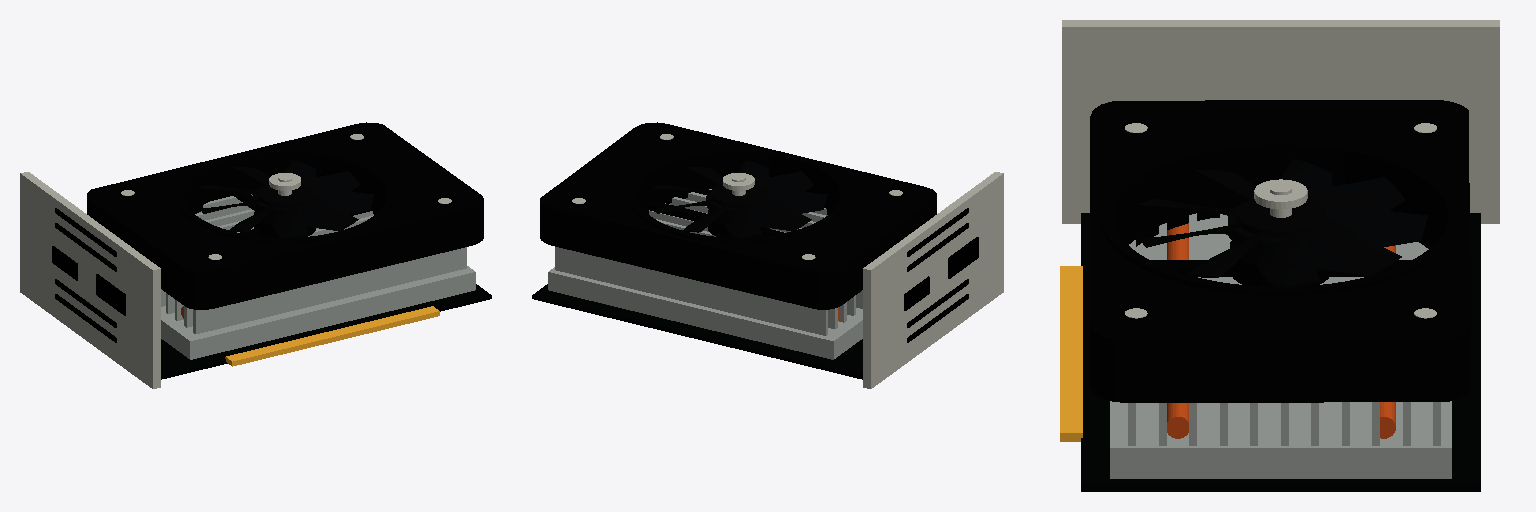
URDF robot description (mini_itx_graphics_card):
<robot name="mini_itx_graphics_card">
  <material name="matte_black_pcb">
    <color rgba="0.015 0.025 0.02 1" />
    </material>
  <material name="dark_solder_mask">
    <color rgba="0.025 0.13 0.075 1" />
    </material>
  <material name="satin_black_shroud">
    <color rgba="0.018 0.018 0.02 1" />
    </material>
  <material name="smoked_fan_plastic">
    <color rgba="0.03 0.032 0.036 1" />
    </material>
  <material name="brushed_aluminum">
    <color rgba="0.62 0.64 0.62 1" />
    </material>
  <material name="io_bracket_steel">
    <color rgba="0.72 0.72 0.68 1" />
    </material>
  <material name="edge_gold">
    <color rgba="0.95 0.68 0.2 1" />
    </material>
  <material name="dark_port_insets">
    <color rgba="0.006 0.007 0.008 1" />
    </material>
  <material name="copper_heatpipes">
    <color rgba="0.78 0.33 0.12 1" />
    </material>
  <link name="card_body">
    <visual name="pcb">
      <origin xyz="0 0 0.001" rpy="0 0 0" />
      <geometry>
        <box size="0.17 0.105 0.002" />
        </geometry>
      <material name="matte_black_pcb">
        <color rgba="0.015 0.025 0.02 1" />
        </material>
      </visual>
    <visual name="pcie_contacts">
      <origin xyz="0.004 -0.055 0.0021" rpy="0 0 0" />
      <geometry>
        <box size="0.104 0.006 0.0024" />
        </geometry>
      <material name="edge_gold">
        <color rgba="0.95 0.68 0.2 1" />
        </material>
      </visual>
    <visual name="io_bracket">
      <origin xyz="-0.0855 0 0.0275" rpy="0 0 0" />
      <geometry>
        <box size="0.004 0.115 0.057" />
        </geometry>
      <material name="io_bracket_steel">
        <color rgba="0.72 0.72 0.68 1" />
        </material>
      </visual>
    <visual name="display_port">
      <origin xyz="-0.0878 -0.022 0.03" rpy="0 0 0" />
      <geometry>
        <box size="0.001 0.025 0.01" />
        </geometry>
      <material name="dark_port_insets">
        <color rgba="0.006 0.007 0.008 1" />
        </material>
      </visual>
    <visual name="hdmi_port">
      <origin xyz="-0.0878 0.018 0.029" rpy="0 0 0" />
      <geometry>
        <box size="0.001 0.021 0.008" />
        </geometry>
      <material name="dark_port_insets">
        <color rgba="0.006 0.007 0.008 1" />
        </material>
      </visual>
    <visual name="bracket_vent_0">
      <origin xyz="-0.0878 0 0.01" rpy="0 0 0" />
      <geometry>
        <box size="0.001 0.053 0.0022" />
        </geometry>
      <material name="dark_port_insets">
        <color rgba="0.006 0.007 0.008 1" />
        </material>
      </visual>
    <visual name="bracket_vent_1">
      <origin xyz="-0.0878 0 0.017" rpy="0 0 0" />
      <geometry>
        <box size="0.001 0.053 0.0022" />
        </geometry>
      <material name="dark_port_insets">
        <color rgba="0.006 0.007 0.008 1" />
        </material>
      </visual>
    <visual name="bracket_vent_2">
      <origin xyz="-0.0878 0 0.044" rpy="0 0 0" />
      <geometry>
        <box size="0.001 0.053 0.0022" />
        </geometry>
      <material name="dark_port_insets">
        <color rgba="0.006 0.007 0.008 1" />
        </material>
      </visual>
    <visual name="bracket_vent_3">
      <origin xyz="-0.0878 0 0.051" rpy="0 0 0" />
      <geometry>
        <box size="0.001 0.053 0.0022" />
        </geometry>
      <material name="dark_port_insets">
        <color rgba="0.006 0.007 0.008 1" />
        </material>
      </visual>
    <visual name="heatsink_base">
      <origin xyz="0.01 0 0.0064" rpy="0 0 0" />
      <geometry>
        <box size="0.143 0.09 0.009" />
        </geometry>
      <material name="brushed_aluminum">
        <color rgba="0.62 0.64 0.62 1" />
        </material>
      </visual>
    <visual name="fin_0">
      <origin xyz="0.012 -0.039 0.0198" rpy="0 0 0" />
      <geometry>
        <box size="0.136 0.0021 0.018" />
        </geometry>
      <material name="brushed_aluminum">
        <color rgba="0.62 0.64 0.62 1" />
        </material>
      </visual>
    <visual name="fin_1">
      <origin xyz="0.012 -0.031 0.0198" rpy="0 0 0" />
      <geometry>
        <box size="0.136 0.0021 0.018" />
        </geometry>
      <material name="brushed_aluminum">
        <color rgba="0.62 0.64 0.62 1" />
        </material>
      </visual>
    <visual name="fin_2">
      <origin xyz="0.012 -0.023 0.0198" rpy="0 0 0" />
      <geometry>
        <box size="0.136 0.0021 0.018" />
        </geometry>
      <material name="brushed_aluminum">
        <color rgba="0.62 0.64 0.62 1" />
        </material>
      </visual>
    <visual name="fin_3">
      <origin xyz="0.012 -0.015 0.0198" rpy="0 0 0" />
      <geometry>
        <box size="0.136 0.0021 0.018" />
        </geometry>
      <material name="brushed_aluminum">
        <color rgba="0.62 0.64 0.62 1" />
        </material>
      </visual>
    <visual name="fin_4">
      <origin xyz="0.012 -0.007 0.0198" rpy="0 0 0" />
      <geometry>
        <box size="0.136 0.0021 0.018" />
        </geometry>
      <material name="brushed_aluminum">
        <color rgba="0.62 0.64 0.62 1" />
        </material>
      </visual>
    <visual name="fin_5">
      <origin xyz="0.012 0.001 0.0198" rpy="0 0 0" />
      <geometry>
        <box size="0.136 0.0021 0.018" />
        </geometry>
      <material name="brushed_aluminum">
        <color rgba="0.62 0.64 0.62 1" />
        </material>
      </visual>
    <visual name="fin_6">
      <origin xyz="0.012 0.009 0.0198" rpy="0 0 0" />
      <geometry>
        <box size="0.136 0.0021 0.018" />
        </geometry>
      <material name="brushed_aluminum">
        <color rgba="0.62 0.64 0.62 1" />
        </material>
      </visual>
    <visual name="fin_7">
      <origin xyz="0.012 0.017 0.0198" rpy="0 0 0" />
      <geometry>
        <box size="0.136 0.0021 0.018" />
        </geometry>
      <material name="brushed_aluminum">
        <color rgba="0.62 0.64 0.62 1" />
        </material>
      </visual>
    <visual name="fin_8">
      <origin xyz="0.012 0.025 0.0198" rpy="0 0 0" />
      <geometry>
        <box size="0.136 0.0021 0.018" />
        </geometry>
      <material name="brushed_aluminum">
        <color rgba="0.62 0.64 0.62 1" />
        </material>
      </visual>
    <visual name="fin_9">
      <origin xyz="0.012 0.033 0.0198" rpy="0 0 0" />
      <geometry>
        <box size="0.136 0.0021 0.018" />
        </geometry>
      <material name="brushed_aluminum">
        <color rgba="0.62 0.64 0.62 1" />
        </material>
      </visual>
    <visual name="fin_10">
      <origin xyz="0.012 0.041 0.0198" rpy="0 0 0" />
      <geometry>
        <box size="0.136 0.0021 0.018" />
        </geometry>
      <material name="brushed_aluminum">
        <color rgba="0.62 0.64 0.62 1" />
        </material>
      </visual>
    <visual name="heatpipe_0">
      <origin xyz="0.012 -0.027 0.0152" rpy="0 1.5708 0" />
      <geometry>
        <cylinder radius="0.0032" length="0.132" />
        </geometry>
      <material name="copper_heatpipes">
        <color rgba="0.78 0.33 0.12 1" />
        </material>
      </visual>
    <visual name="heatpipe_1">
      <origin xyz="0.012 0.027 0.0152" rpy="0 1.5708 0" />
      <geometry>
        <cylinder radius="0.0032" length="0.132" />
        </geometry>
      <material name="copper_heatpipes">
        <color rgba="0.78 0.33 0.12 1" />
        </material>
      </visual>
    <visual name="fan_shroud">
      <origin xyz="0.012 0 0.0355" rpy="0 0 0" />
      <geometry>
        <mesh filename="assets/meshes/short_fan_shroud.obj" />
        </geometry>
      <material name="satin_black_shroud">
        <color rgba="0.018 0.018 0.02 1" />
        </material>
      </visual>
    <visual name="stator_spoke_x">
      <origin xyz="0.012 0 0.0305" rpy="0 0 0" />
      <geometry>
        <box size="0.09 0.004 0.003" />
        </geometry>
      <material name="satin_black_shroud">
        <color rgba="0.018 0.018 0.02 1" />
        </material>
      </visual>
    <visual name="stator_spoke_y">
      <origin xyz="0.012 0 0.0305" rpy="0 0 0" />
      <geometry>
        <box size="0.004 0.09 0.003" />
        </geometry>
      <material name="satin_black_shroud">
        <color rgba="0.018 0.018 0.02 1" />
        </material>
      </visual>
    <visual name="stator_hub">
      <origin xyz="0.012 0 0.0335" rpy="0 0 0" />
      <geometry>
        <cylinder radius="0.0135" length="0.007" />
        </geometry>
      <material name="satin_black_shroud">
        <color rgba="0.018 0.018 0.02 1" />
        </material>
      </visual>
    <visual name="bearing_pin">
      <origin xyz="0.012 0 0.0415" rpy="0 0 0" />
      <geometry>
        <cylinder radius="0.003" length="0.025" />
        </geometry>
      <material name="io_bracket_steel">
        <color rgba="0.72 0.72 0.68 1" />
        </material>
      </visual>
    <visual name="retainer_clip">
      <origin xyz="0.012 0 0.052" rpy="0 0 0" />
      <geometry>
        <cylinder radius="0.007" length="0.0022" />
        </geometry>
      <material name="io_bracket_steel">
        <color rgba="0.72 0.72 0.68 1" />
        </material>
      </visual>
    <visual name="shroud_screw_0">
      <origin xyz="-0.045 -0.038 0.0435" rpy="0 0 0" />
      <geometry>
        <cylinder radius="0.003" length="0.0024" />
        </geometry>
      <material name="io_bracket_steel">
        <color rgba="0.72 0.72 0.68 1" />
        </material>
      </visual>
    <visual name="shroud_screw_1">
      <origin xyz="-0.045 0.038 0.0435" rpy="0 0 0" />
      <geometry>
        <cylinder radius="0.003" length="0.0024" />
        </geometry>
      <material name="io_bracket_steel">
        <color rgba="0.72 0.72 0.68 1" />
        </material>
      </visual>
    <visual name="shroud_screw_2">
      <origin xyz="0.07 -0.038 0.0435" rpy="0 0 0" />
      <geometry>
        <cylinder radius="0.003" length="0.0024" />
        </geometry>
      <material name="io_bracket_steel">
        <color rgba="0.72 0.72 0.68 1" />
        </material>
      </visual>
    <visual name="shroud_screw_3">
      <origin xyz="0.07 0.038 0.0435" rpy="0 0 0" />
      <geometry>
        <cylinder radius="0.003" length="0.0024" />
        </geometry>
      <material name="io_bracket_steel">
        <color rgba="0.72 0.72 0.68 1" />
        </material>
      </visual>
    <collision name="pcb">
      <origin xyz="0 0 0.001" rpy="0 0 0" />
      <geometry>
        <box size="0.17 0.105 0.002" />
        </geometry>
      </collision>
    <collision name="pcie_contacts">
      <origin xyz="0.004 -0.055 0.0021" rpy="0 0 0" />
      <geometry>
        <box size="0.104 0.006 0.0024" />
        </geometry>
      </collision>
    <collision name="io_bracket">
      <origin xyz="-0.0855 0 0.0275" rpy="0 0 0" />
      <geometry>
        <box size="0.004 0.115 0.057" />
        </geometry>
      </collision>
    <collision name="display_port">
      <origin xyz="-0.0878 -0.022 0.03" rpy="0 0 0" />
      <geometry>
        <box size="0.001 0.025 0.01" />
        </geometry>
      </collision>
    <collision name="hdmi_port">
      <origin xyz="-0.0878 0.018 0.029" rpy="0 0 0" />
      <geometry>
        <box size="0.001 0.021 0.008" />
        </geometry>
      </collision>
    <collision name="bracket_vent_0">
      <origin xyz="-0.0878 0 0.01" rpy="0 0 0" />
      <geometry>
        <box size="0.001 0.053 0.0022" />
        </geometry>
      </collision>
    <collision name="bracket_vent_1">
      <origin xyz="-0.0878 0 0.017" rpy="0 0 0" />
      <geometry>
        <box size="0.001 0.053 0.0022" />
        </geometry>
      </collision>
    <collision name="bracket_vent_2">
      <origin xyz="-0.0878 0 0.044" rpy="0 0 0" />
      <geometry>
        <box size="0.001 0.053 0.0022" />
        </geometry>
      </collision>
    <collision name="bracket_vent_3">
      <origin xyz="-0.0878 0 0.051" rpy="0 0 0" />
      <geometry>
        <box size="0.001 0.053 0.0022" />
        </geometry>
      </collision>
    <collision name="heatsink_base">
      <origin xyz="0.01 0 0.0064" rpy="0 0 0" />
      <geometry>
        <box size="0.143 0.09 0.009" />
        </geometry>
      </collision>
    <collision name="fin_0">
      <origin xyz="0.012 -0.039 0.0198" rpy="0 0 0" />
      <geometry>
        <box size="0.136 0.0021 0.018" />
        </geometry>
      </collision>
    <collision name="fin_1">
      <origin xyz="0.012 -0.031 0.0198" rpy="0 0 0" />
      <geometry>
        <box size="0.136 0.0021 0.018" />
        </geometry>
      </collision>
    <collision name="fin_2">
      <origin xyz="0.012 -0.023 0.0198" rpy="0 0 0" />
      <geometry>
        <box size="0.136 0.0021 0.018" />
        </geometry>
      </collision>
    <collision name="fin_3">
      <origin xyz="0.012 -0.015 0.0198" rpy="0 0 0" />
      <geometry>
        <box size="0.136 0.0021 0.018" />
        </geometry>
      </collision>
    <collision name="fin_4">
      <origin xyz="0.012 -0.007 0.0198" rpy="0 0 0" />
      <geometry>
        <box size="0.136 0.0021 0.018" />
        </geometry>
      </collision>
    <collision name="fin_5">
      <origin xyz="0.012 0.001 0.0198" rpy="0 0 0" />
      <geometry>
        <box size="0.136 0.0021 0.018" />
        </geometry>
      </collision>
    <collision name="fin_6">
      <origin xyz="0.012 0.009 0.0198" rpy="0 0 0" />
      <geometry>
        <box size="0.136 0.0021 0.018" />
        </geometry>
      </collision>
    <collision name="fin_7">
      <origin xyz="0.012 0.017 0.0198" rpy="0 0 0" />
      <geometry>
        <box size="0.136 0.0021 0.018" />
        </geometry>
      </collision>
    <collision name="fin_8">
      <origin xyz="0.012 0.025 0.0198" rpy="0 0 0" />
      <geometry>
        <box size="0.136 0.0021 0.018" />
        </geometry>
      </collision>
    <collision name="fin_9">
      <origin xyz="0.012 0.033 0.0198" rpy="0 0 0" />
      <geometry>
        <box size="0.136 0.0021 0.018" />
        </geometry>
      </collision>
    <collision name="fin_10">
      <origin xyz="0.012 0.041 0.0198" rpy="0 0 0" />
      <geometry>
        <box size="0.136 0.0021 0.018" />
        </geometry>
      </collision>
    <collision name="heatpipe_0">
      <origin xyz="0.012 -0.027 0.0152" rpy="0 1.5708 0" />
      <geometry>
        <cylinder radius="0.0032" length="0.132" />
        </geometry>
      </collision>
    <collision name="heatpipe_1">
      <origin xyz="0.012 0.027 0.0152" rpy="0 1.5708 0" />
      <geometry>
        <cylinder radius="0.0032" length="0.132" />
        </geometry>
      </collision>
    <collision name="fan_shroud">
      <origin xyz="0.012 0 0.0355" rpy="0 0 0" />
      <geometry>
        <mesh filename="assets/meshes/short_fan_shroud.obj" />
        </geometry>
      </collision>
    <collision name="stator_spoke_x">
      <origin xyz="0.012 0 0.0305" rpy="0 0 0" />
      <geometry>
        <box size="0.09 0.004 0.003" />
        </geometry>
      </collision>
    <collision name="stator_spoke_y">
      <origin xyz="0.012 0 0.0305" rpy="0 0 0" />
      <geometry>
        <box size="0.004 0.09 0.003" />
        </geometry>
      </collision>
    <collision name="stator_hub">
      <origin xyz="0.012 0 0.0335" rpy="0 0 0" />
      <geometry>
        <cylinder radius="0.0135" length="0.007" />
        </geometry>
      </collision>
    <collision name="bearing_pin">
      <origin xyz="0.012 0 0.0415" rpy="0 0 0" />
      <geometry>
        <cylinder radius="0.003" length="0.025" />
        </geometry>
      </collision>
    <collision name="retainer_clip">
      <origin xyz="0.012 0 0.052" rpy="0 0 0" />
      <geometry>
        <cylinder radius="0.007" length="0.0022" />
        </geometry>
      </collision>
    <collision name="shroud_screw_0">
      <origin xyz="-0.045 -0.038 0.0435" rpy="0 0 0" />
      <geometry>
        <cylinder radius="0.003" length="0.0024" />
        </geometry>
      </collision>
    <collision name="shroud_screw_1">
      <origin xyz="-0.045 0.038 0.0435" rpy="0 0 0" />
      <geometry>
        <cylinder radius="0.003" length="0.0024" />
        </geometry>
      </collision>
    <collision name="shroud_screw_2">
      <origin xyz="0.07 -0.038 0.0435" rpy="0 0 0" />
      <geometry>
        <cylinder radius="0.003" length="0.0024" />
        </geometry>
      </collision>
    <collision name="shroud_screw_3">
      <origin xyz="0.07 0.038 0.0435" rpy="0 0 0" />
      <geometry>
        <cylinder radius="0.003" length="0.0024" />
        </geometry>
      </collision>
    </link>
  <link name="fan_rotor">
    <visual name="rotor_mesh">
      <geometry>
        <mesh filename="assets/meshes/large_axial_fan_rotor.obj" />
        </geometry>
      <material name="smoked_fan_plastic">
        <color rgba="0.03 0.032 0.036 1" />
        </material>
      </visual>
    <collision name="rotor_mesh">
      <geometry>
        <mesh filename="assets/meshes/large_axial_fan_rotor.obj" />
        </geometry>
      </collision>
    </link>
  <joint name="fan_spin" type="continuous">
    <origin xyz="0.012 0 0.043" rpy="0 0 0" />
    <parent link="card_body" />
    <child link="fan_rotor" />
    <axis xyz="0 0 1" />
    <limit effort="0.03" velocity="180" />
    <dynamics damping="0.001" friction="0.0001" />
    </joint>
  </robot>

--- Render facts (derived) ---
The picture shows the robot from 3 angles, left to right: view 1: azimuth 30°, elevation 25°; view 2: azimuth 150°, elevation 25°; view 3: azimuth 270°, elevation 25°; orthographic projection.
Robot: mini_itx_graphics_card — 2 links, 1 joints (1 continuous); root link card_body; default pose: all joints at 0.
Links seen in each view (by area): view 1: card_body, fan_rotor; view 2: card_body, fan_rotor; view 3: card_body, fan_rotor.
Boxes of the visible links, box(x1,y1,x2,y2) form: card_body: box(20, 122, 491, 388); fan_rotor: box(200, 160, 373, 237); card_body: box(532, 122, 1003, 388); fan_rotor: box(653, 160, 827, 237); card_body: box(1060, 20, 1499, 491); fan_rotor: box(1139, 159, 1427, 286).
Bounding box of the posed robot: 0.1753 × 0.1155 × 0.057 m (x, y, z).
Meshes: 2 distinct files referenced, 2 mesh visuals loaded (2 OBJ).
